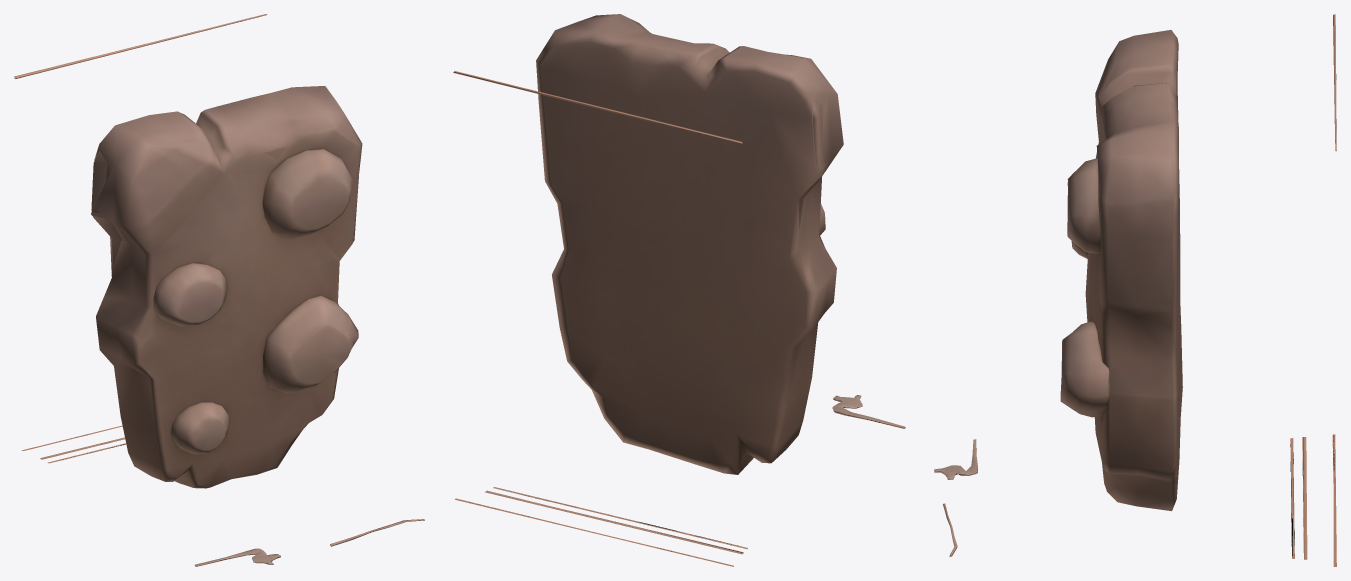
The model's file is bulwark-34.glb.
3 renders of one model, left to right at view 1: azimuth 30°, elevation 25°; view 2: azimuth 150°, elevation 25°; view 3: azimuth 270°, elevation 25°, orthographic. The views are drawn at different scales.
Parts seen in each view (by area): view 1: geometry_0; view 2: geometry_0; view 3: geometry_0.
Part boxes in pixels (x1,y1,x2,y2): geometry_0: (14,14,424,566); geometry_0: (453,14,905,566); geometry_0: (934,14,1336,566).
Size of the model in its own units: 0.7058 by 1 by 0.8739.
Materials: 1 (1 with a texture image).
